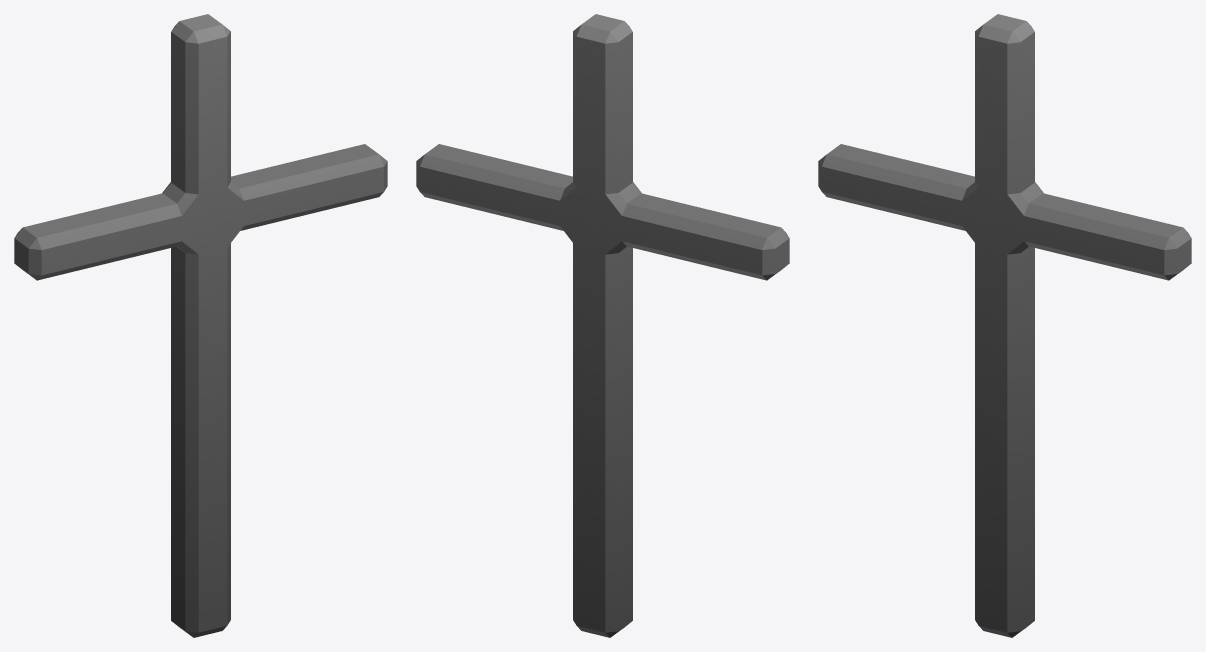
Rendered from Cross1.fbx.
3 renders of one model, left to right at view 1: azimuth 30°, elevation 25°; view 2: azimuth 150°, elevation 25°; view 3: azimuth 330°, elevation 25°, orthographic.
Parts seen in each view (by area): view 1: Cross1; view 2: Cross1; view 3: Cross1.
Part boxes in pixels (left/top/right/bottom): Cross1: left=14, top=14, right=387, bottom=637; Cross1: left=416, top=14, right=789, bottom=637; Cross1: left=818, top=14, right=1191, bottom=637.
Size of the model in its own units: 0.7949 by 1.28 by 0.0918.
Materials: 1 (1 with a texture image).
